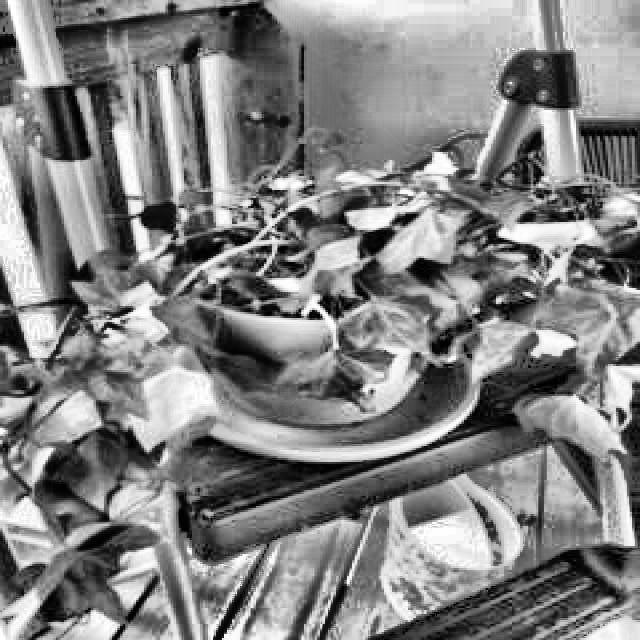plants: (0, 150, 638, 635), (460, 161, 636, 282)
